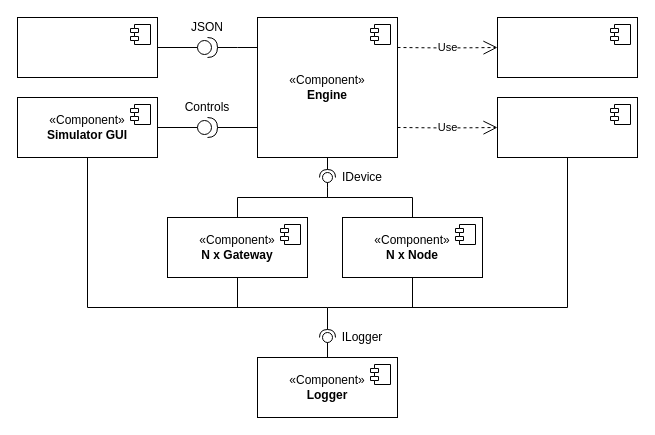
This 655x435 diagram has some shape labels left out. Each missing label, with the centre of its shape:
"«Component» Medium Service" belongs at point (567, 127).
"«Component» Node Event Queue" belongs at point (567, 47).
"«Component» Pipe builder GUI" belongs at point (87, 47).
